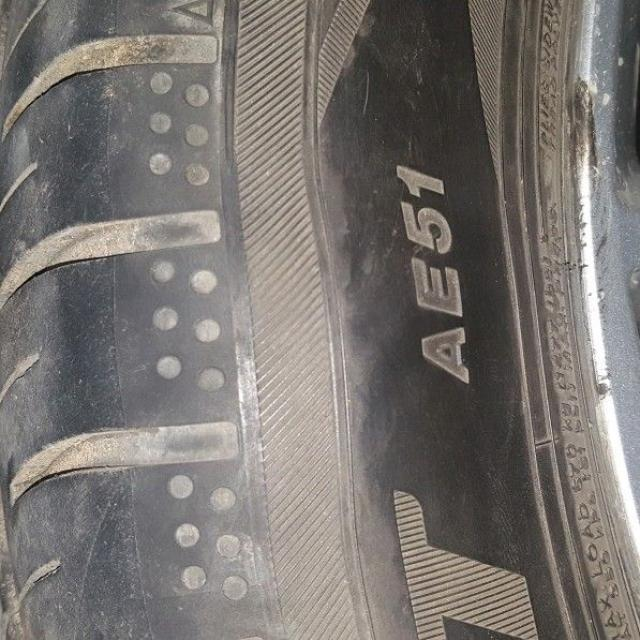Bulge: (102, 208, 408, 479)
